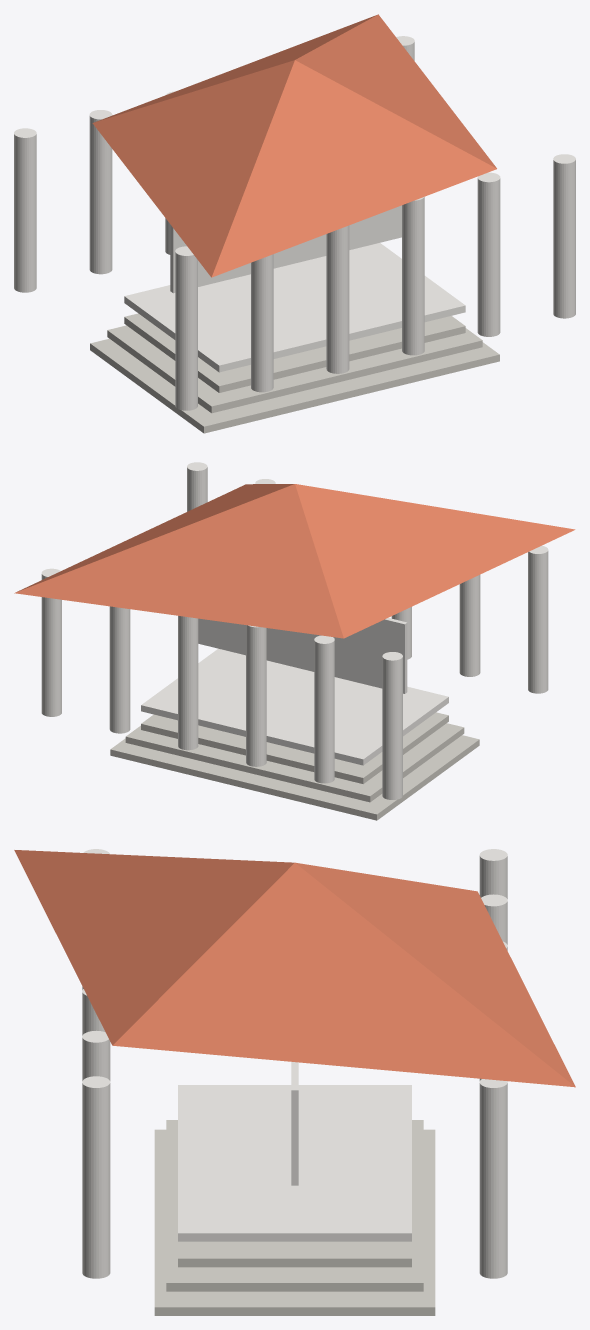
Rendered from roman_temple.glb.
3 renders of one model, top to bottom at view 1: azimuth 30°, elevation 25°; view 2: azimuth 150°, elevation 25°; view 3: azimuth 270°, elevation 25°, orthographic. The views are drawn at different scales.
Visible parts, largest first — view 1: Cone, Cube.003, Cube, Cube.001, Cube.002, Cylinder.004, Cylinder.006, Cylinder.005, Cylinder, Cube.004, Cylinder.007, Cylinder.003 (+2 smaller); view 2: Cone, Cube.003, Cube.004, Cube, Cube.001, Cube.002, Cylinder.007, Cylinder.006, Cylinder, Cylinder.008, Cylinder.009, Cylinder.010 (+3 smaller); view 3: Cone, Cube.003, Cube, Cube.001, Cube.002, Cylinder.005, Cylinder.011, Cylinder.006, Cylinder.004, Cube.004, Cylinder.007.
Part boxes in pixels (box(x1,y1,x2,y2)): Cone: box(92, 14, 496, 277); Cube.003: box(124, 243, 465, 372); Cube: box(90, 338, 499, 433); Cube.001: box(107, 325, 482, 413); Cube.002: box(124, 313, 465, 392); Cylinder.004: box(477, 172, 500, 336); Cylinder.006: box(14, 128, 36, 292); Cylinder.005: box(553, 154, 575, 318); Cylinder: box(175, 246, 197, 410); Cube.004: box(170, 205, 401, 293); Cylinder.007: box(89, 110, 112, 274); Cylinder.003: box(402, 197, 424, 355); Cone: box(14, 484, 575, 638); Cube.003: box(141, 648, 448, 765); Cube.004: box(198, 618, 407, 693); Cube: box(110, 735, 479, 820); Cube.001: box(125, 723, 464, 802); Cube.002: box(141, 712, 448, 783); Cylinder.007: box(314, 635, 334, 783); Cylinder.006: box(382, 652, 402, 799); Cylinder: box(528, 545, 548, 693); Cylinder.008: box(246, 625, 266, 766); Cylinder.009: box(178, 616, 198, 750); Cylinder.010: box(109, 606, 130, 733); Cone: box(14, 850, 575, 1087); Cube.003: box(178, 1085, 411, 1241); Cube: box(154, 1129, 435, 1315); Cube.001: box(166, 1120, 423, 1291); Cube.002: box(178, 1241, 411, 1267); Cylinder.005: box(82, 1076, 110, 1278); Cylinder.011: box(479, 1079, 507, 1278); Cylinder.006: box(479, 849, 507, 898); Cylinder.004: box(82, 1030, 110, 1080); Cube.004: box(291, 1062, 298, 1185); Cylinder.007: box(481, 894, 507, 944).
Size of the model in its own units: 2.42 by 1.72 by 2.4.
